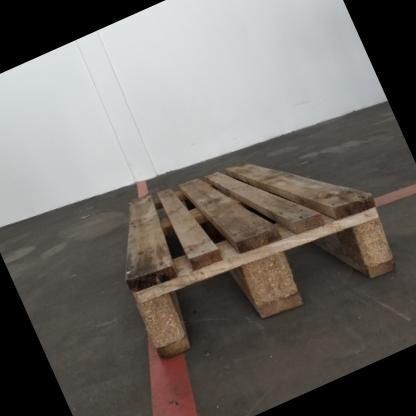BoxFace: (127, 154, 401, 368)
